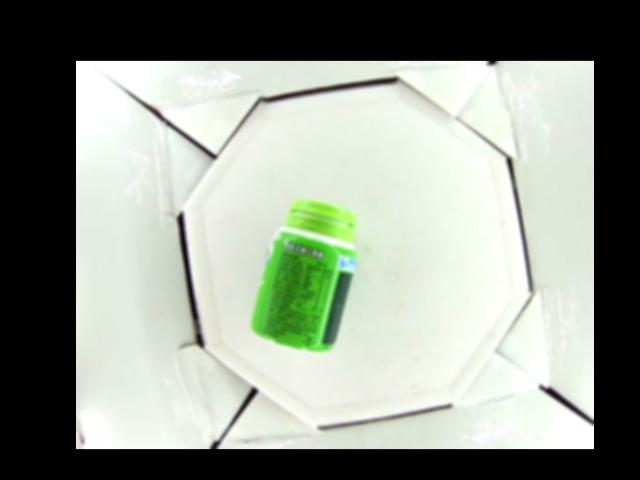Bottle: (250, 202, 357, 352)
